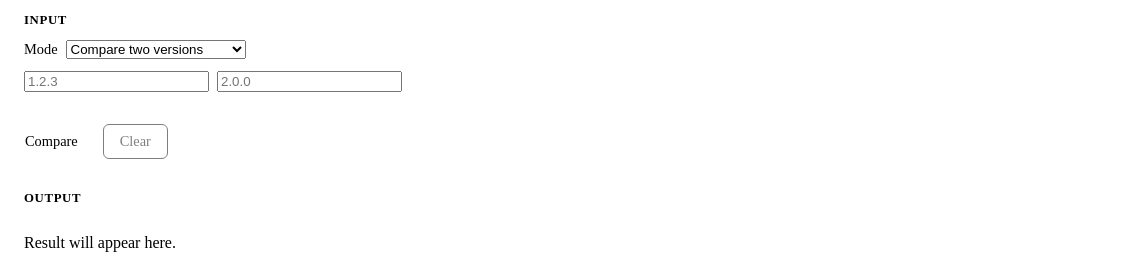
Scenario: SemverComparatorTool › shows a visible error for an invalid version and no output
This screenshot has width=1145, height=278.
Type "01.2.3" into the field named "Version A" at (116, 82), box x1=24 y1=71 x2=209 y2=92
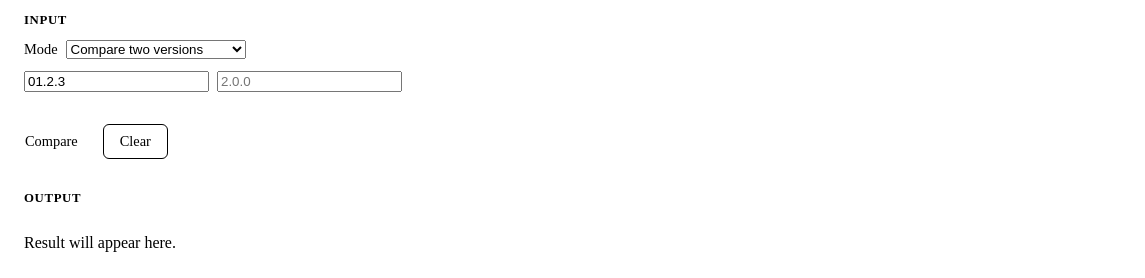
Type "1.2.3" into the field named "Version B" at (310, 82), box x1=217 y1=71 x2=402 y2=92
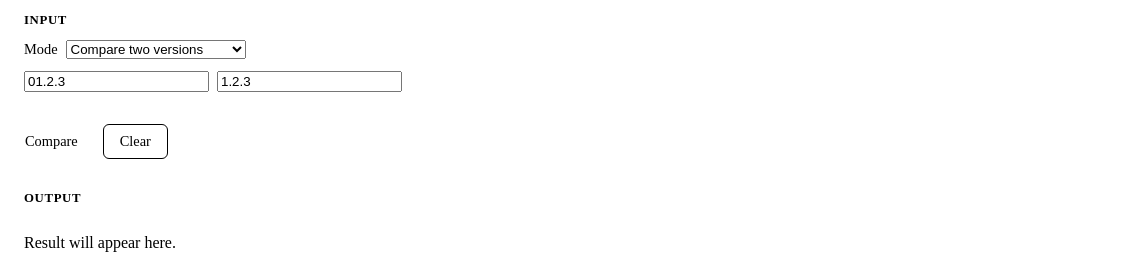
Click the button "Compare" at (51, 142), box x1=8 y1=124 x2=95 y2=159
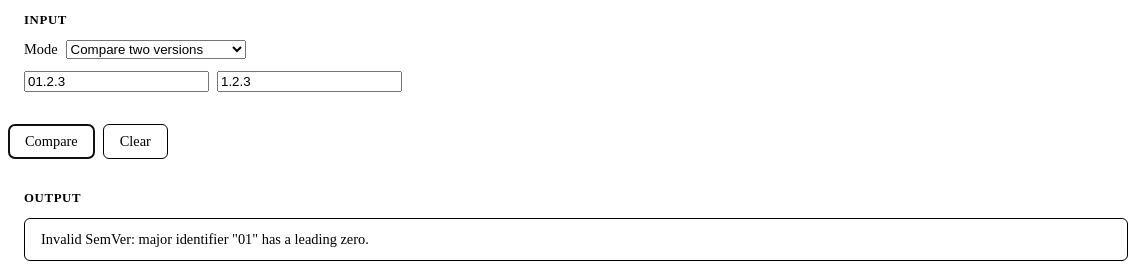
Now the message shows "leading zero", box x1=41 y1=231 x2=369 y2=247
